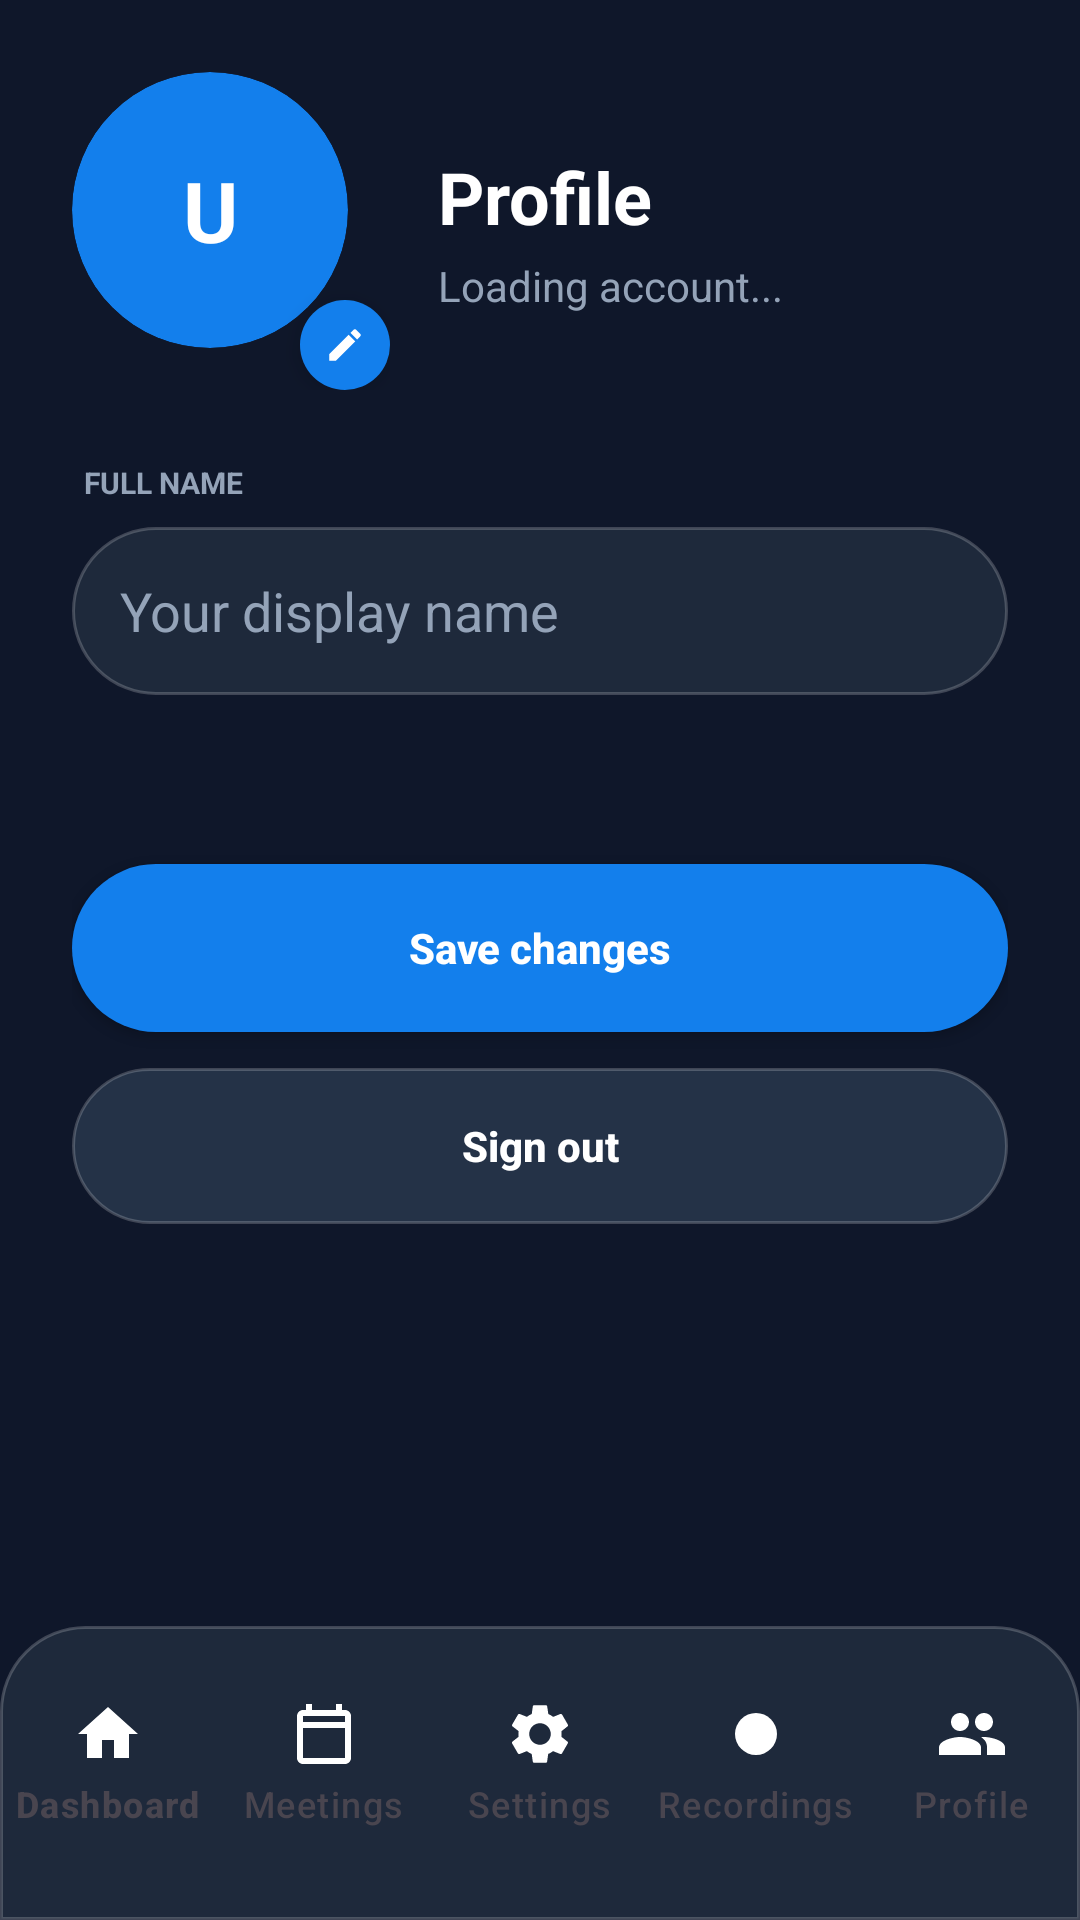

Point at icon controls on the screen. Image size 1080x1920, points as (x,y).
edit badge: (345,345)
